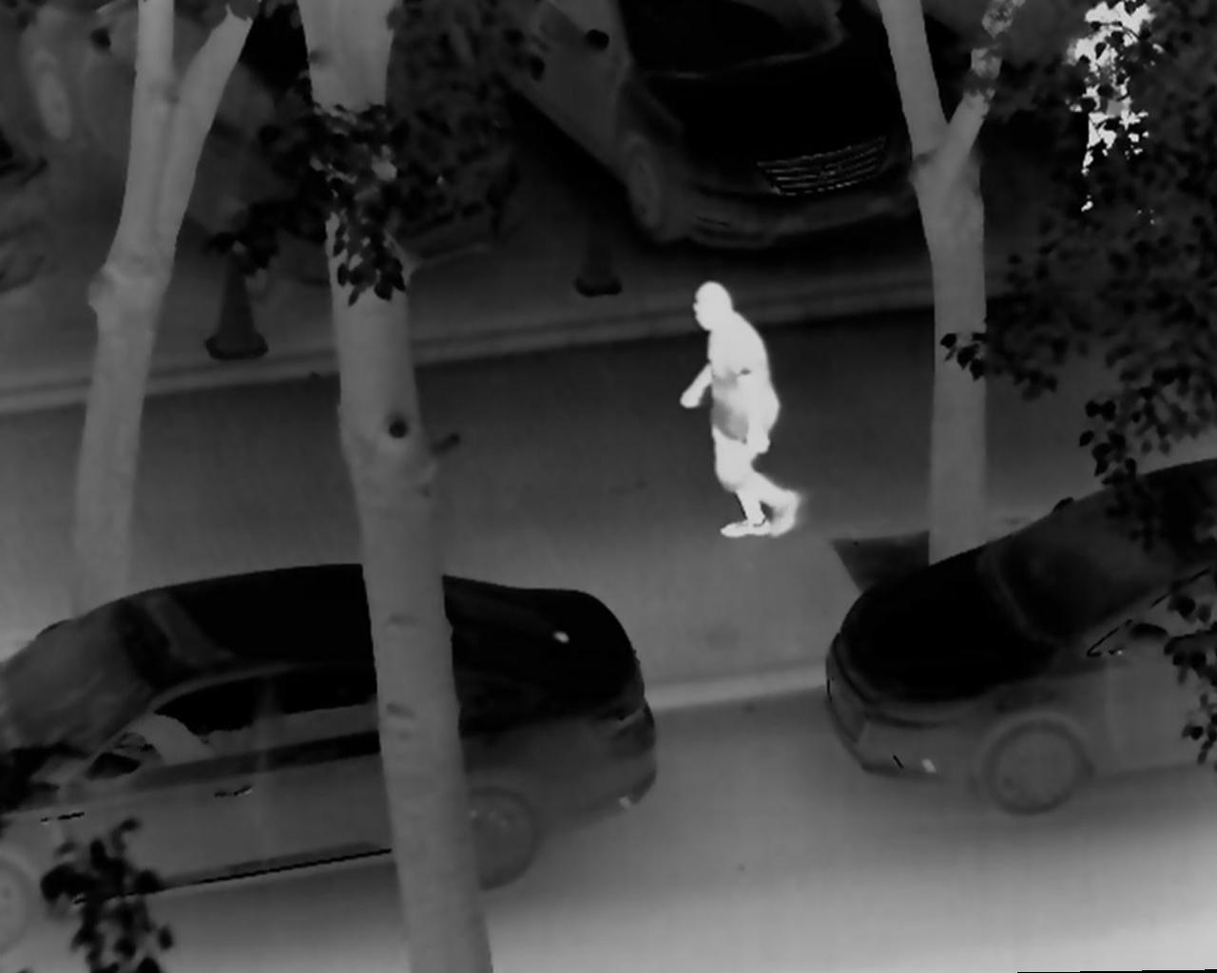person: (669, 277, 813, 544)
